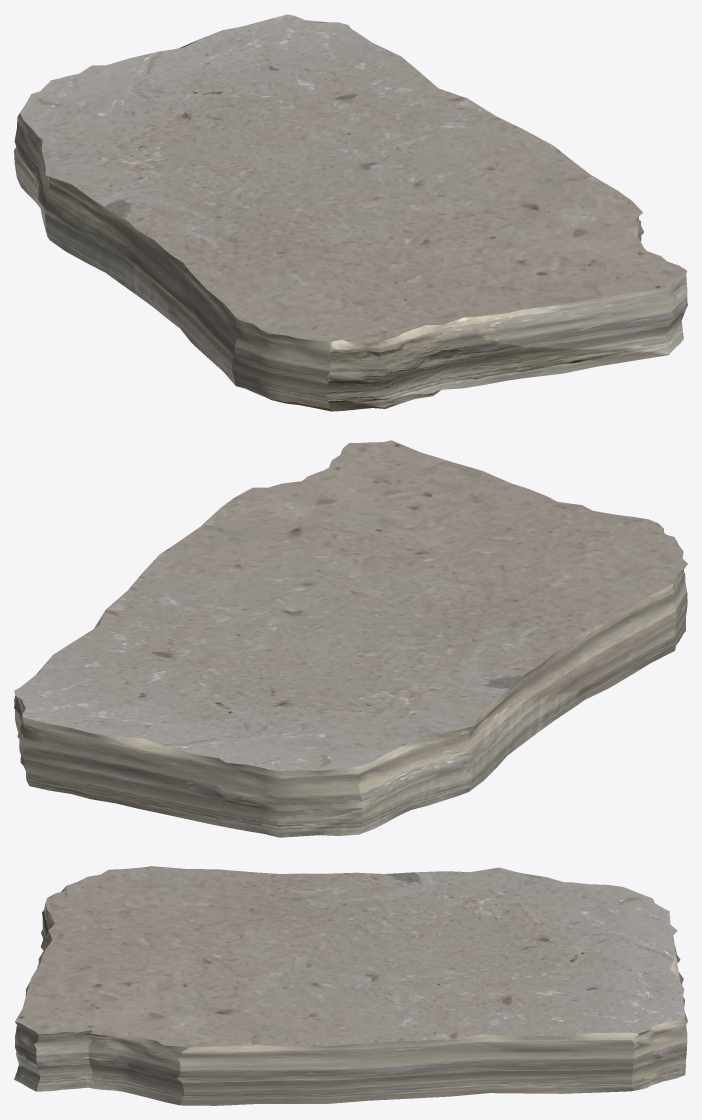
The picture shows the model from 3 angles, top to bottom: view 1: azimuth 30°, elevation 25°; view 2: azimuth 150°, elevation 25°; view 3: azimuth 270°, elevation 25°; orthographic projection. The views are drawn at different scales.
Parts seen in each view (by area): view 1: Cube.001; view 2: Cube.001; view 3: Cube.001.
Part boxes in pixels (<box>): Cube.001: <box>14,14,687,411</box>; Cube.001: <box>14,440,687,837</box>; Cube.001: <box>14,866,687,1105</box>.
Size of the model in its own units: 4.81 by 0.7349 by 7.43.
1 material, 1 textured.
